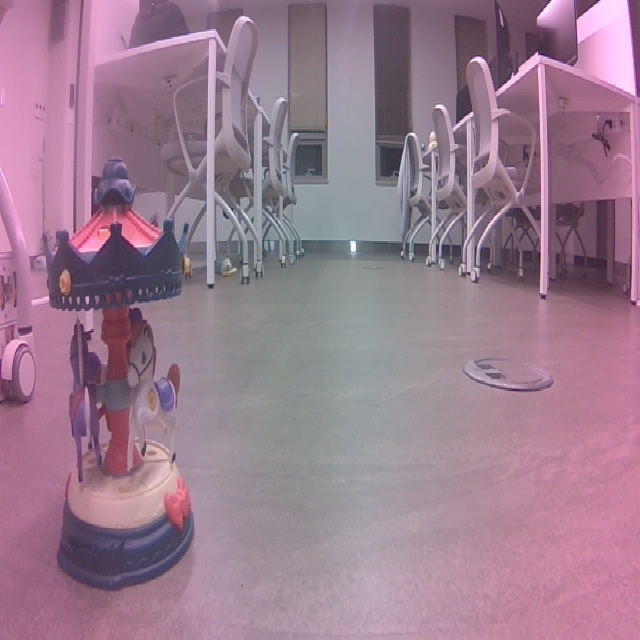목적지: (45, 149, 204, 585)
